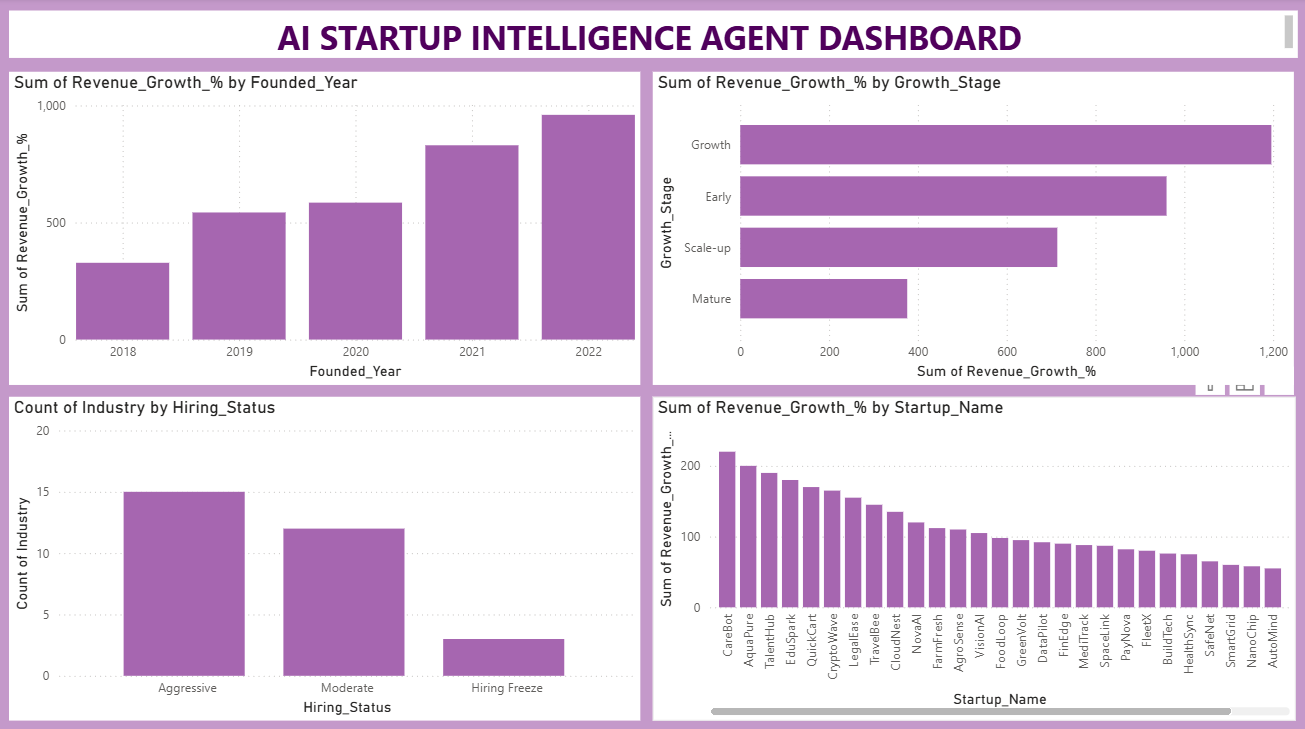

What the dashboard file says about the page in this screenshot:
{"tool":"powerbi","page":{"name":"REVENUE","canvas":[1280,720],"ordinal":0},"visuals":[{"type":"columnChart","fields":{"Y":["Sum(Sheet.Revenue_Growth_%)"],"Category":["Sheet.Startup_Name"]},"box":[639.5,389.7,628.5,317],"z":0},{"type":"textbox","box":[9.6,12.3,1261.1,46.7],"z":1},{"type":"clusteredColumnChart","fields":{"Category":["Sheet.Founded_Year.Variation.Date Hierarchy.Year"],"Y":["Sum(Sheet.Revenue_Growth_%)"]},"box":[9.6,72.7,617.5,306],"z":2},{"type":"columnChart","fields":{"Category":["Sheet.Hiring_Status"],"Y":["CountNonNull(Sheet.Industry)"]},"box":[9.6,389.7,617.5,317],"z":3},{"type":"clusteredBarChart","fields":{"Y":["Sum(Sheet.Revenue_Growth_%)"],"Category":["Sheet.Growth_Stage"]},"box":[639.5,72.7,627.1,306],"z":4}]}

Visuals, with their boxes in screenshot pixels (x1, y1, x2, y2), scaled from the page's 1280x720 canvas onto the 1305x729 screenshot:
columnChart - Sum(Sheet.Revenue_Growth_%) x Sheet.Startup_Name: 652 395 1293 716
textbox: 10 12 1296 60
clusteredColumnChart - Sheet.Founded_Year.Variation.Date Hierarchy.Year x Sum(Sheet.Revenue_Growth_%): 10 74 639 383
columnChart - Sheet.Hiring_Status x CountNonNull(Sheet.Industry): 10 395 639 716
clusteredBarChart - Sum(Sheet.Revenue_Growth_%) x Sheet.Growth_Stage: 652 74 1291 383
